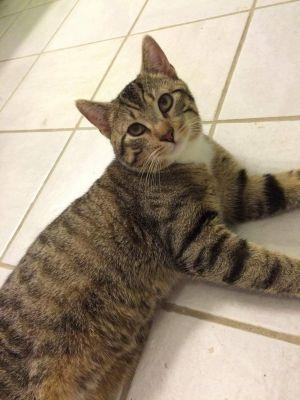bengal: (65, 30, 211, 182)
